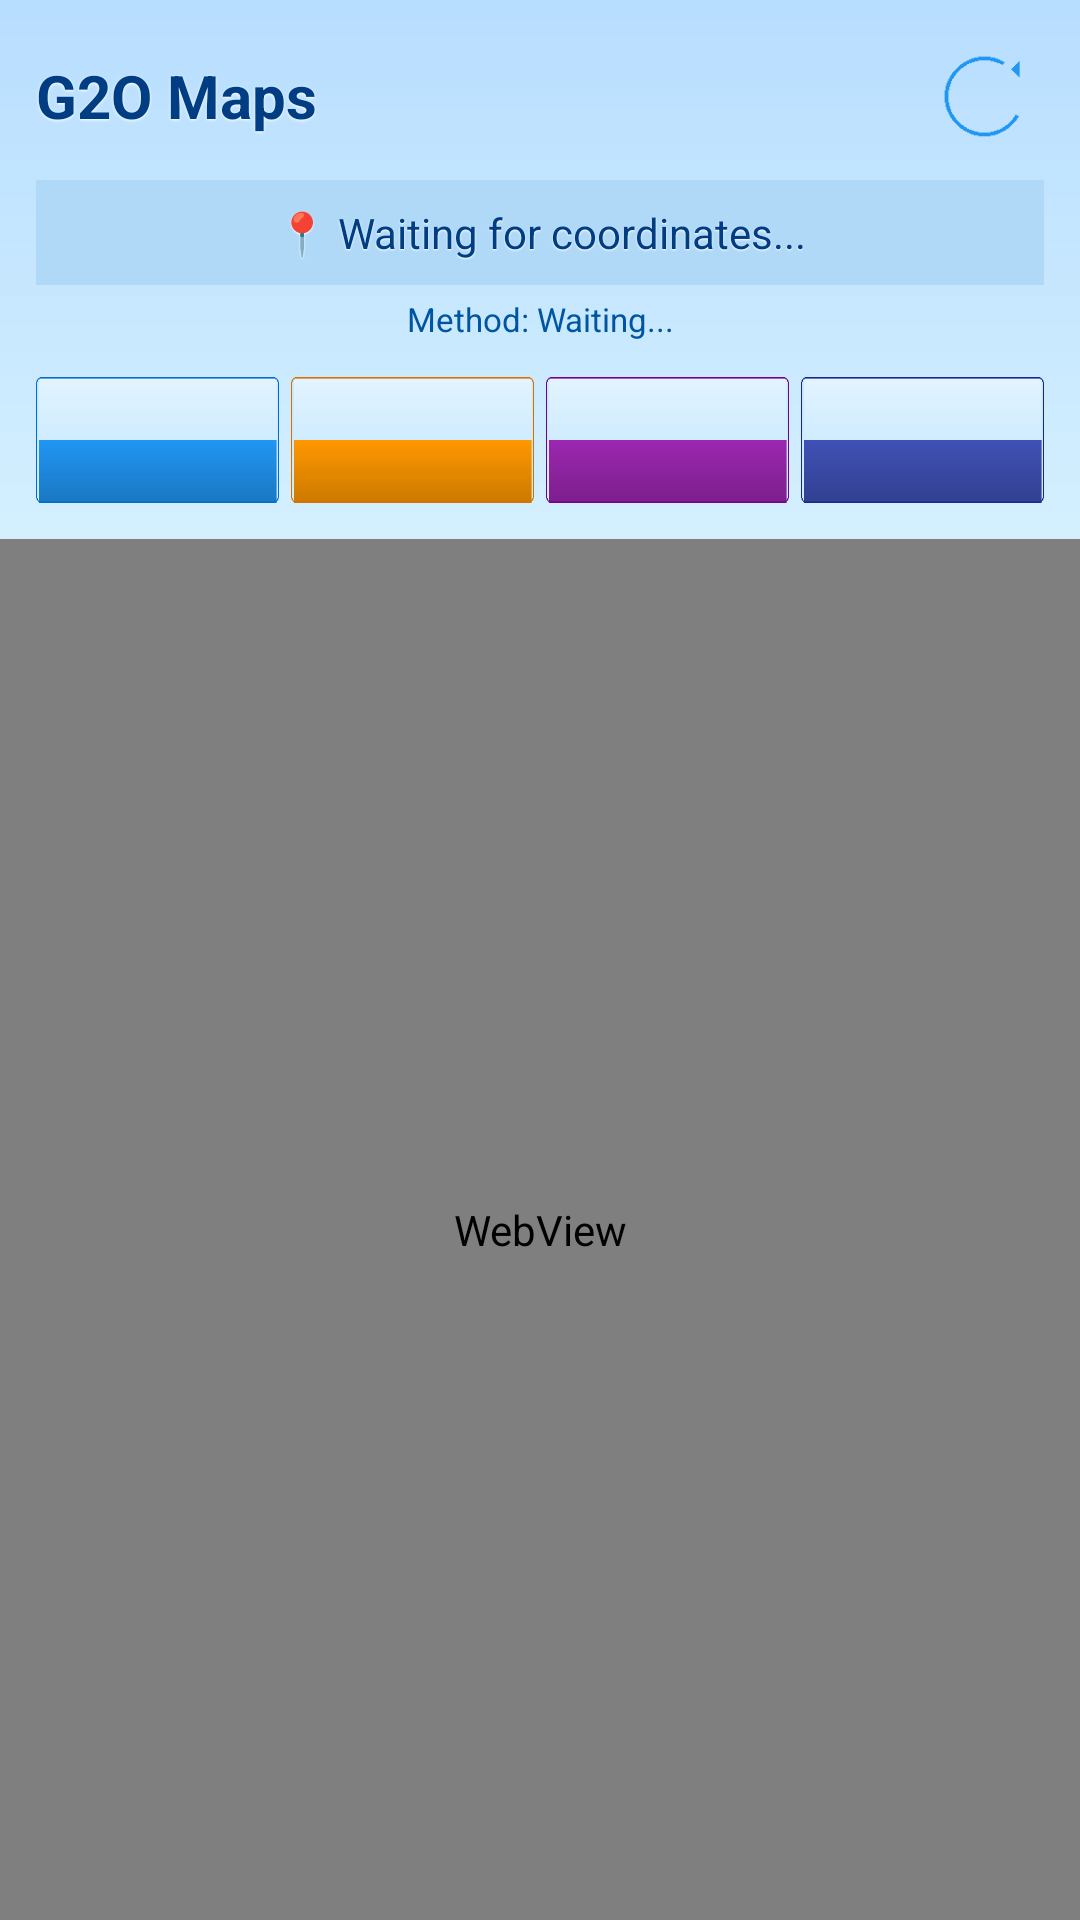

Icons on this 1080x1920 Android screen, each with its box as (x1,y1,x2,y2):
Refresh: (944,56,1020,137)
